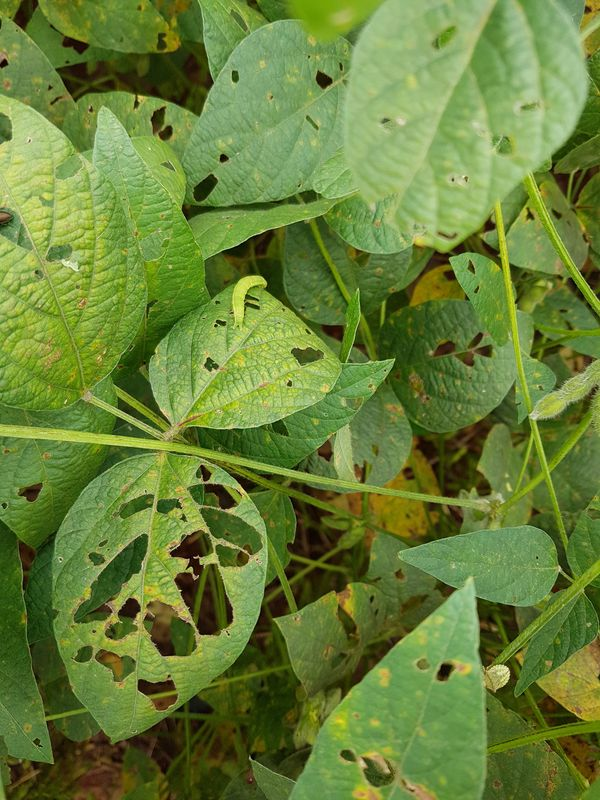Anticarsia_gemmatalis: (224, 270, 276, 332)
Euschistus_heros_ninfa: (478, 662, 512, 696)
